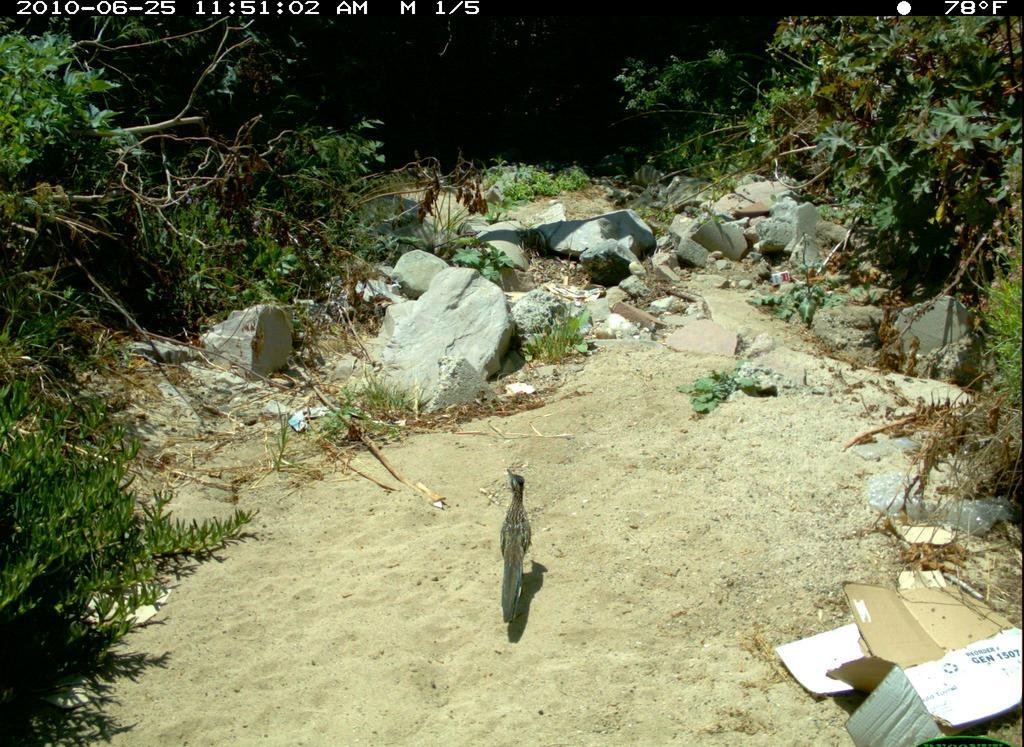bird: (495, 461, 546, 632)
